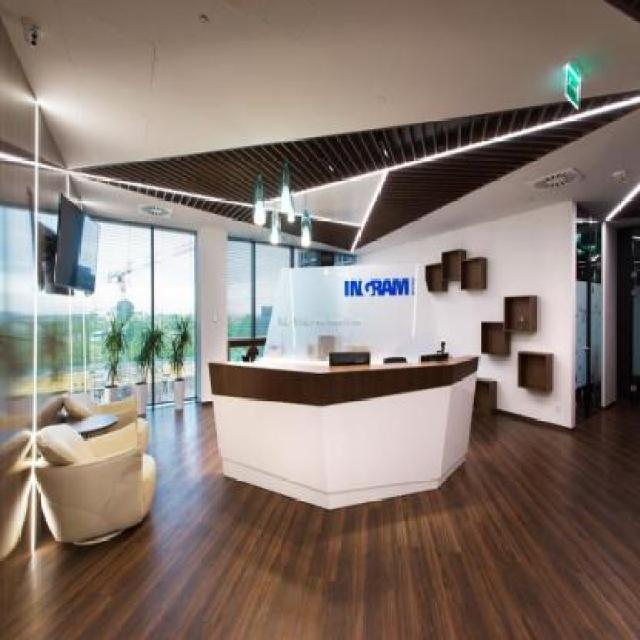frontdesk: (190, 335, 488, 514)
